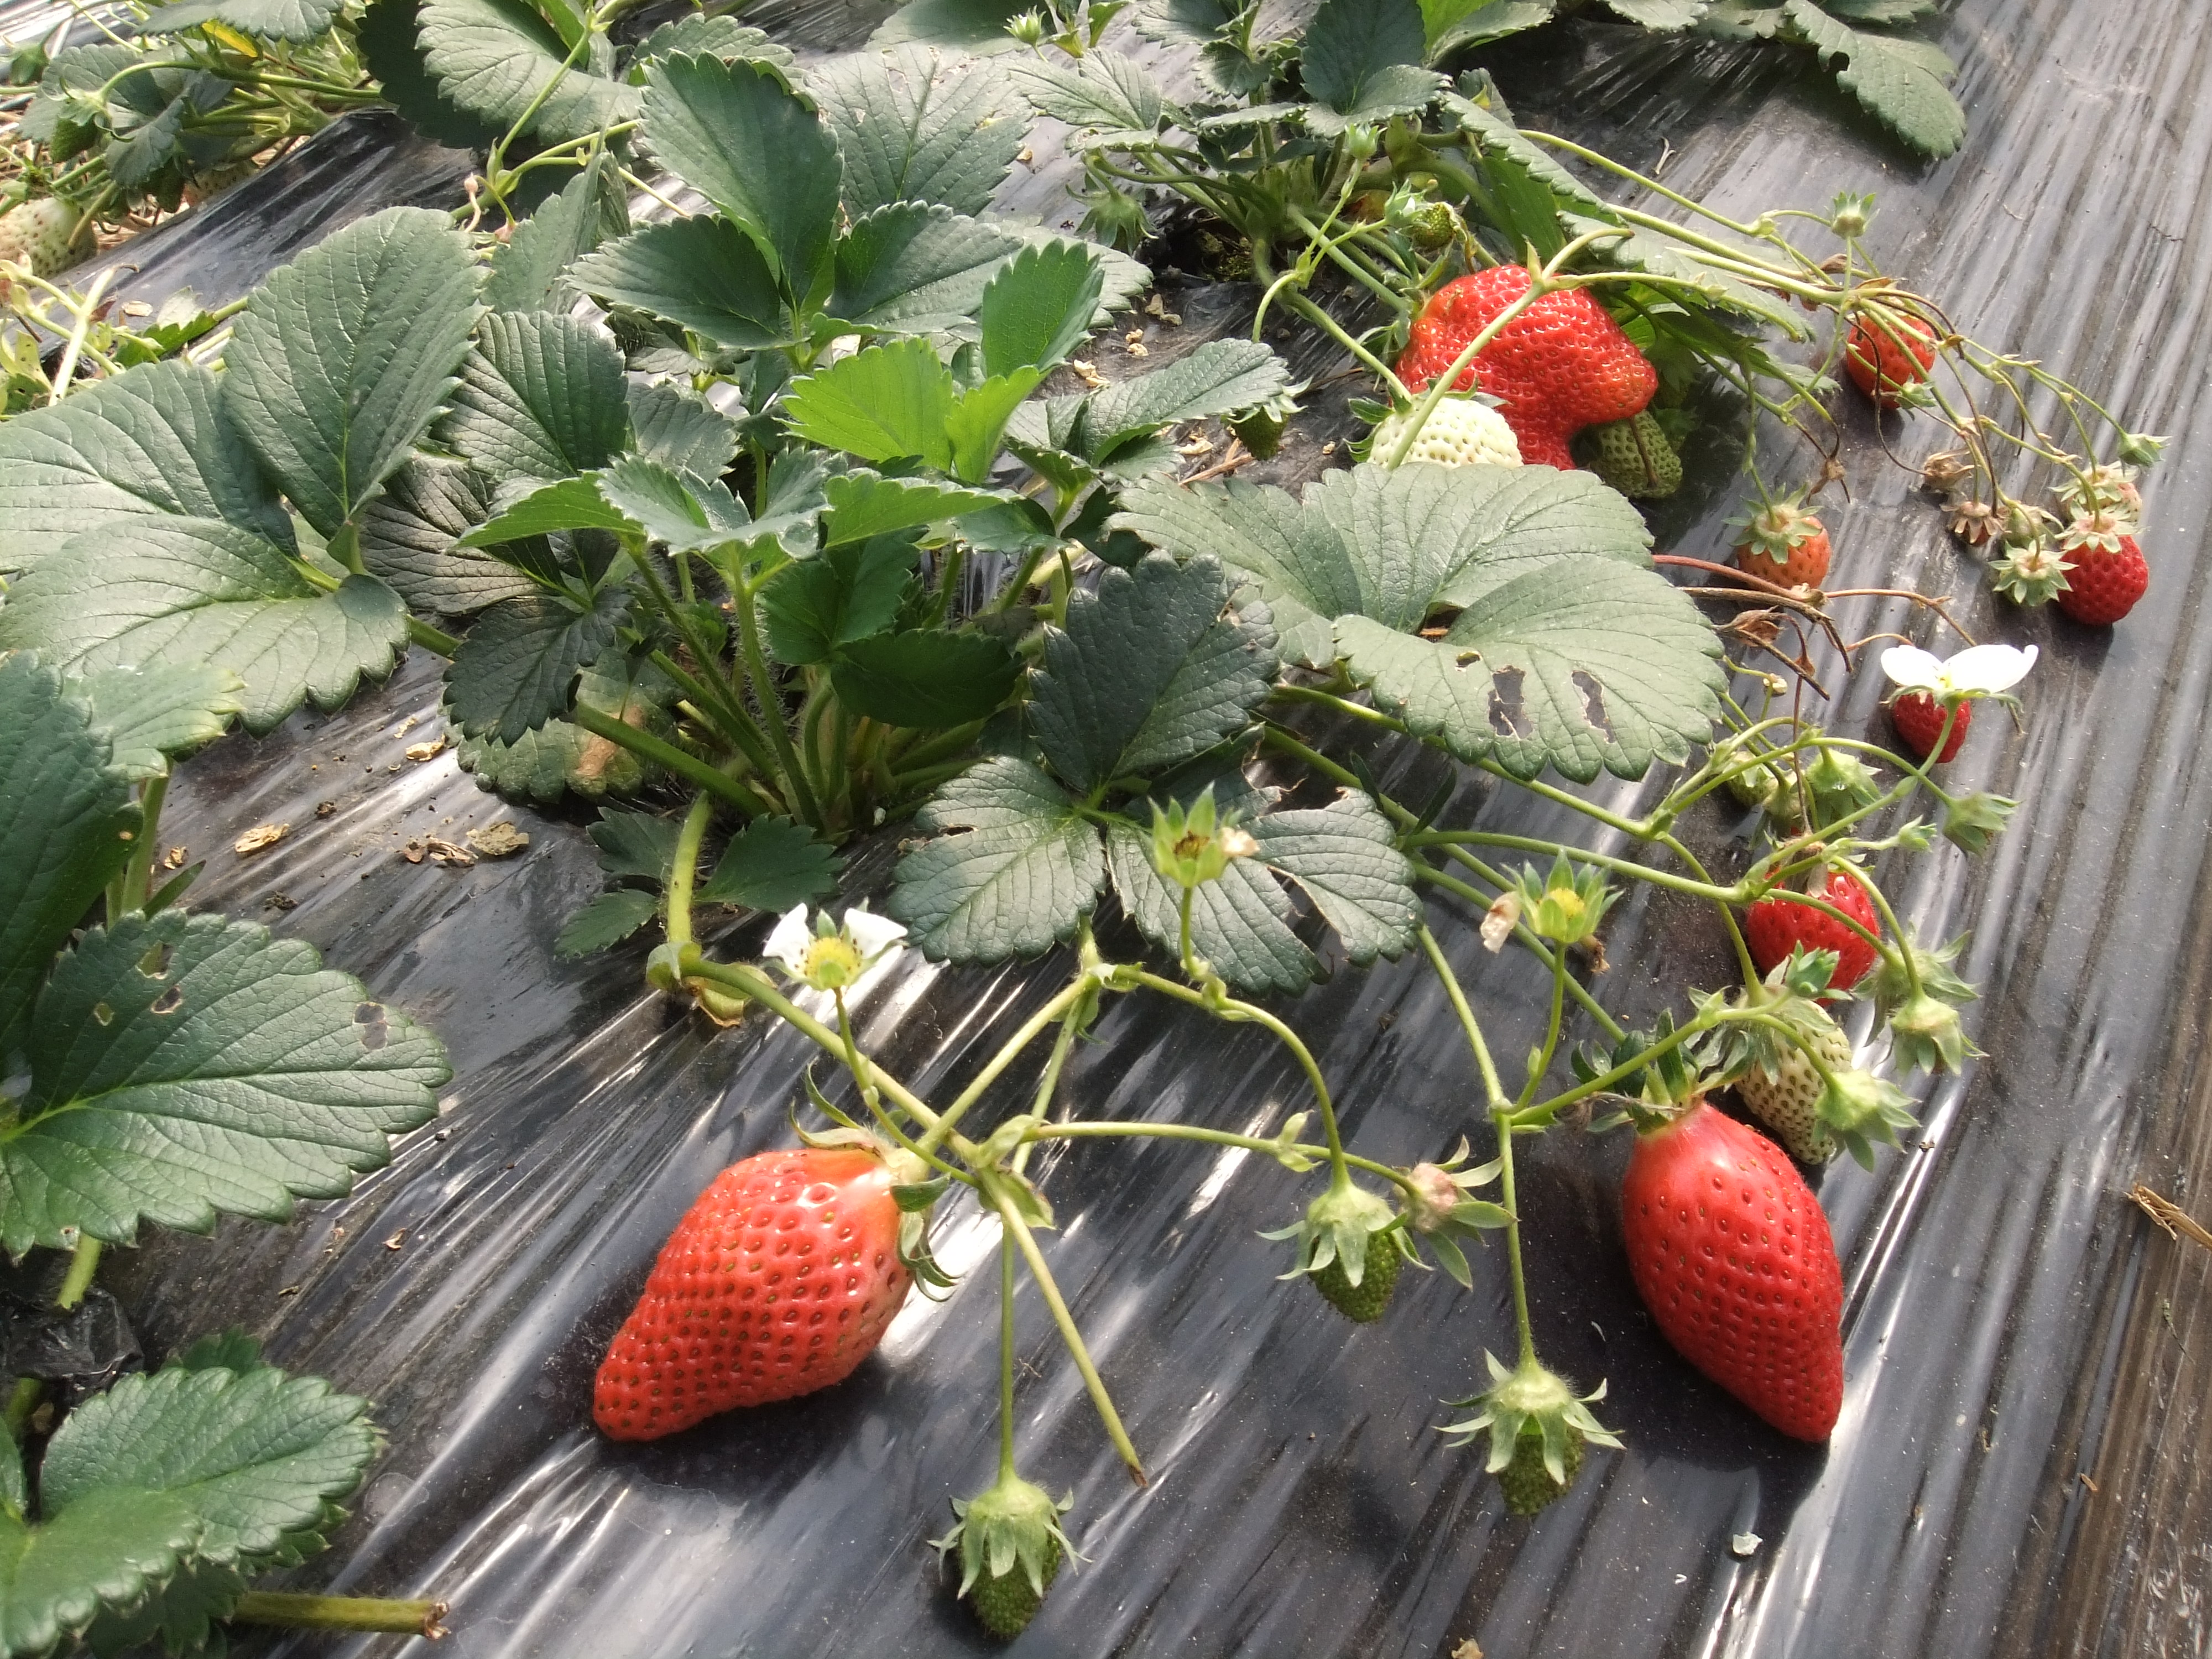StrawberryFusiform: (1606, 1100, 1864, 1446), (2043, 512, 2161, 633)
StrawberryIrremovable: (592, 1145, 913, 1441), (1719, 995, 1869, 1175), (946, 1493, 1069, 1645), (1474, 1377, 1595, 1528), (1352, 390, 1524, 495), (1294, 1194, 1416, 1333), (1834, 293, 1952, 420), (1733, 509, 1846, 608), (1576, 411, 1689, 505), (1223, 382, 1303, 465), (38, 87, 118, 160)
StrawberryOther: (1737, 852, 1905, 990), (1878, 674, 1982, 755)
StrawberryRemovable: (1609, 1107, 1860, 1438), (1392, 258, 1662, 490), (1740, 854, 1902, 990), (2047, 514, 2160, 631), (1881, 678, 1977, 760)
StrawberryWedge: (1388, 251, 1662, 490)
